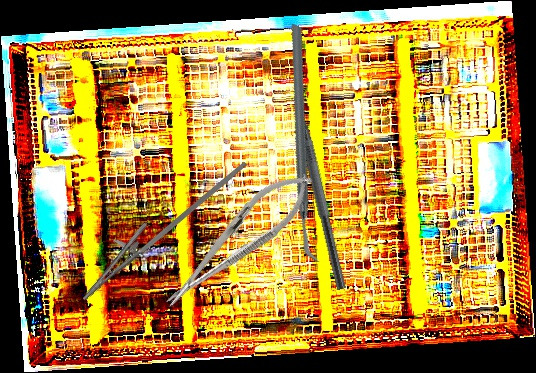Chopper: (213, 22, 398, 264), (285, 80, 361, 291)
Needle Holder: (69, 131, 249, 320), (150, 157, 326, 322)
